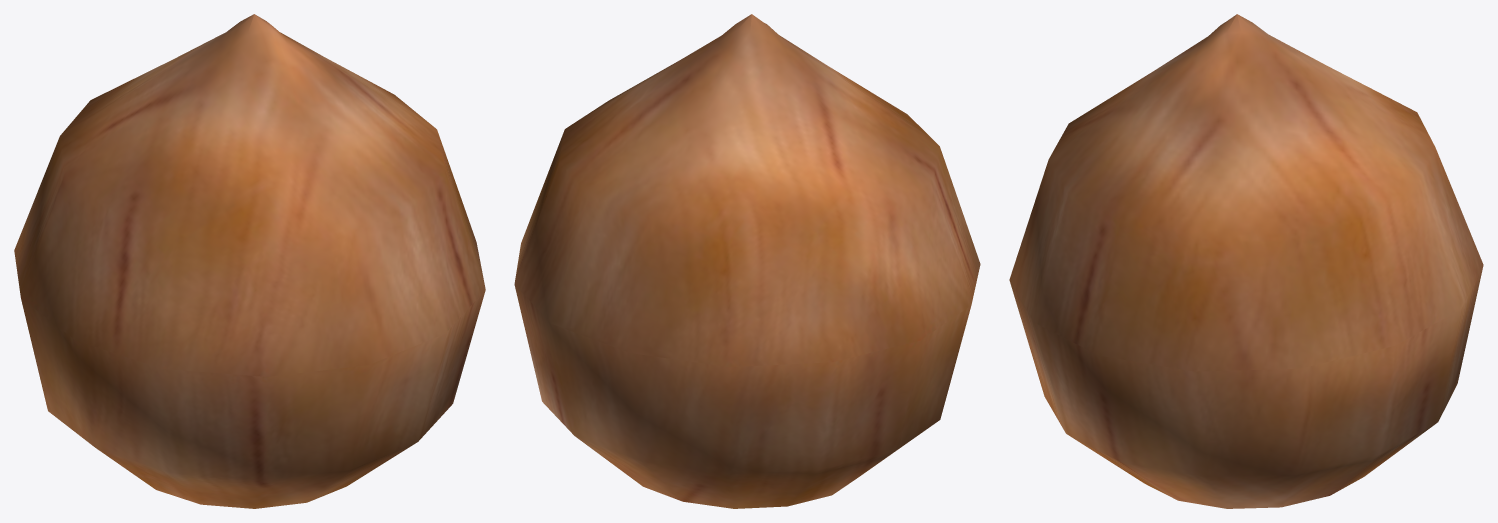
Rendered from TomatoOnion_onion.fbx.
The picture shows the model from 3 angles, left to right: view 1: azimuth 30°, elevation 25°; view 2: azimuth 150°, elevation 25°; view 3: azimuth 270°, elevation 25°; orthographic projection.
Visible parts, largest first — view 1: Onion; view 2: Onion; view 3: Onion.
Boxes of the visible parts, x1,y1,x2,y2 form: Onion: [14, 14, 485, 508]; Onion: [514, 14, 980, 508]; Onion: [1009, 14, 1483, 508].
Bounding box in the file's own units: 0.1166 × 0.1256 × 0.1192.
